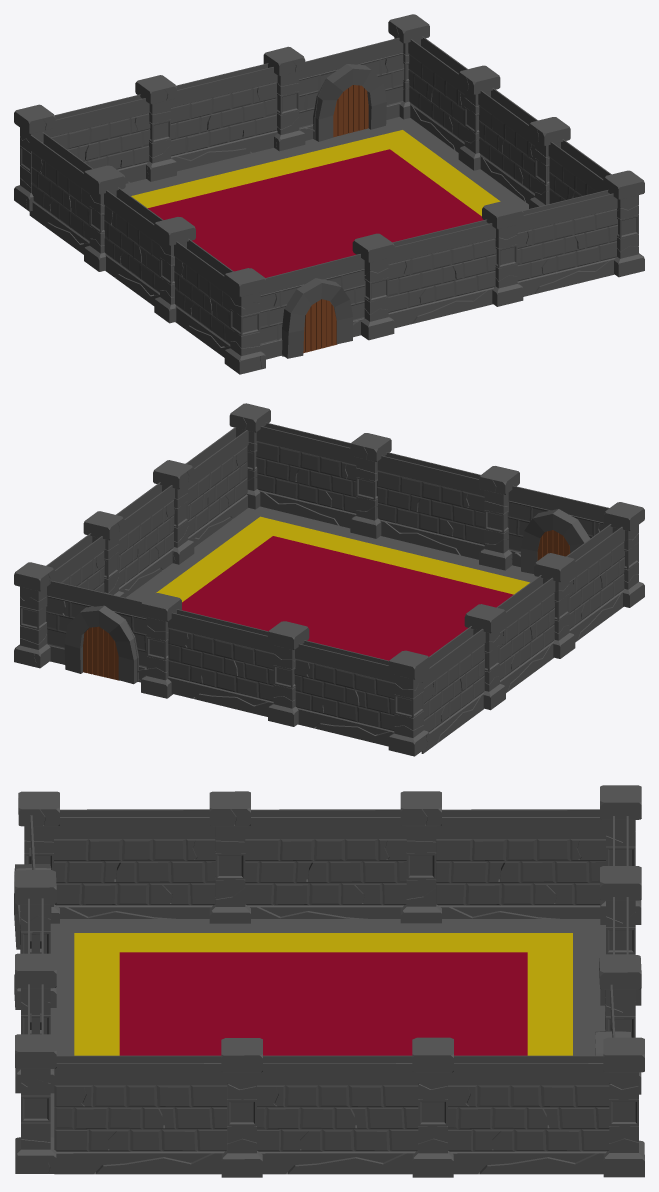
File: room3.fbx
The picture shows the model from 3 angles, top to bottom: view 1: azimuth 30°, elevation 25°; view 2: azimuth 150°, elevation 25°; view 3: azimuth 270°, elevation 25°; orthographic projection. The views are drawn at different scales.
Parts seen in each view (by area): view 1: Plane.002, wall.013, wall.014, wall.015, wall.012, gate.006, gate.005, pillar.017, pillar.015, pillar.016, pillar.018, pillar.020 (+1 smaller); view 2: Plane.002, wall.013, wall.015, wall.014, wall.012, gate.005, pillar.015, pillar.017, pillar.018, gate.006, pillar.016, pillar.020 (+1 smaller); view 3: Plane.002, wall.012, wall.014, pillar.015, pillar.017, pillar.016, pillar.018, pillar.020, pillar.019, gate.006, wall.013, gate.005.
Part boxes in pixels (left/top/right/bottom): Plane.002: left=122, top=116, right=528, bottom=335; wall.013: left=388, top=190, right=617, bottom=328; wall.014: left=29, top=132, right=233, bottom=357; wall.015: left=49, top=63, right=277, bottom=183; wall.012: left=408, top=36, right=611, bottom=204; gate.006: left=260, top=254, right=365, bottom=359; gate.005: left=298, top=37, right=404, bottom=141; pillar.017: left=84, top=165, right=265, bottom=374; pillar.015: left=388, top=14, right=570, bottom=208; pillar.016: left=482, top=170, right=644, bottom=306; pillar.018: left=14, top=75, right=176, bottom=211; pillar.020: left=352, top=233, right=394, bottom=340; Plane.002: left=126, top=506, right=537, bottom=680; wall.013: left=256, top=422, right=484, bottom=559; wall.015: left=168, top=609, right=394, bottom=746; wall.014: left=421, top=524, right=624, bottom=753; wall.012: left=46, top=427, right=248, bottom=597; gate.005: left=46, top=580, right=146, bottom=684; pillar.015: left=14, top=460, right=194, bottom=668; pillar.017: left=464, top=502, right=644, bottom=710; pillar.018: left=267, top=621, right=429, bottom=756; gate.006: left=507, top=485, right=609, bottom=573; pillar.016: left=229, top=403, right=391, bottom=538; pillar.020: left=479, top=466, right=519, bottom=570; Plane.002: left=50, top=917, right=605, bottom=1137; wall.012: left=54, top=1055, right=609, bottom=1174; wall.014: left=54, top=809, right=605, bottom=918; pillar.015: left=221, top=1037, right=644, bottom=1177; pillar.017: left=18, top=791, right=441, bottom=923; pillar.016: left=15, top=953, right=56, bottom=1173; pillar.018: left=600, top=785, right=641, bottom=1005; pillar.020: left=14, top=870, right=56, bottom=1009; pillar.019: left=599, top=955, right=641, bottom=1094; gate.006: left=14, top=815, right=51, bottom=949; wall.013: left=28, top=898, right=43, bottom=1034; gate.005: left=595, top=984, right=631, bottom=1055.
Bounding box in the file's own units: 1627 × 371 × 1609.
